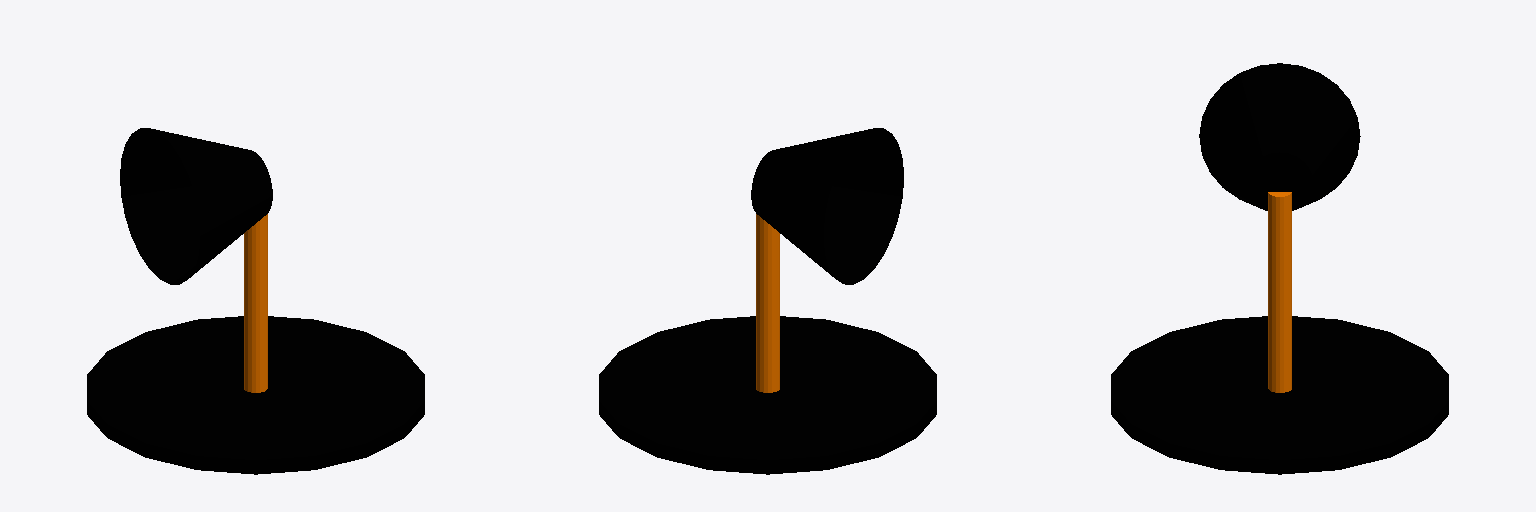
File: lamp.obj
3 views of the same model, side by side, from view 1: azimuth 30°, elevation 25°; view 2: azimuth 150°, elevation 25°; view 3: azimuth 270°, elevation 25° (orthographic).
Parts seen in each view (by area): view 1: Cylinder001, Cone001, Cylinder002; view 2: Cylinder001, Cone001, Cylinder002; view 3: Cylinder001, Cone001, Cylinder002.
Boxes of the visible parts, <box> form: Cylinder001: <box>87,316,424,474</box>; Cone001: <box>120,128,272,284</box>; Cylinder002: <box>244,214,267,392</box>; Cylinder001: <box>599,316,936,474</box>; Cone001: <box>751,128,903,284</box>; Cylinder002: <box>756,214,779,392</box>; Cylinder001: <box>1111,316,1448,474</box>; Cone001: <box>1199,63,1360,210</box>; Cylinder002: <box>1268,192,1291,392</box>.
Bounding box in the file's own units: 29.62 × 27.78 × 29.17.